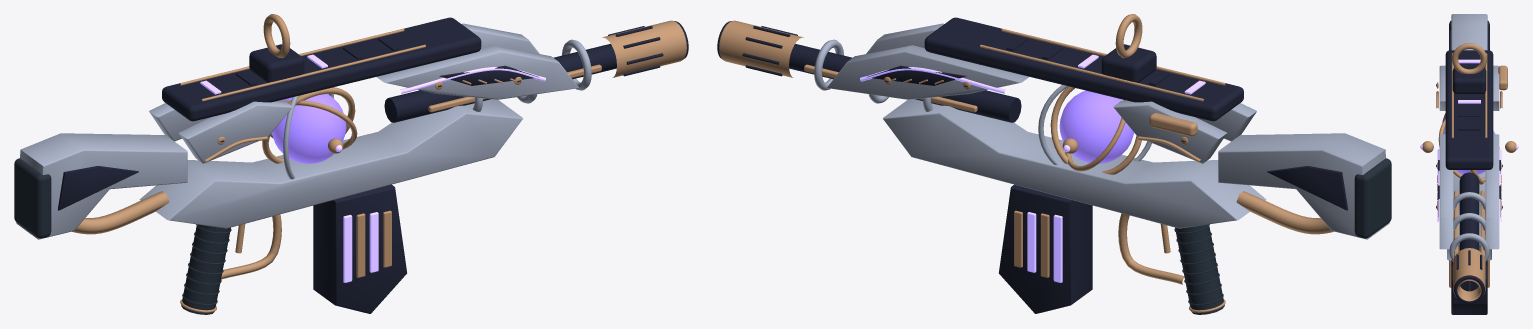
File: graviton-crucible.glb
3 renders of one model, left to right at view 1: azimuth 30°, elevation 25°; view 2: azimuth 150°, elevation 25°; view 3: azimuth 270°, elevation 25°, orthographic. The views are drawn at different scales.
Parts seen in each view (by area): view 1: 01_Dawn_AR__body_Sculpt_coat, 01_Dawn_AR__body_Sculpt_frame, 01_Dawn_AR__stock_Sculpt_coat, 01_Dawn_AR__body_Sculpt_metal, 01_Dawn_AR__magazine_Sculpt_frame, 01_Dawn_AR__body_Sculpt_core, 01_Dawn_AR__body_Sculpt_grip, 01_Dawn_AR__stock_Sculpt_grip, 01_Dawn_AR__stock_Sculpt_frame, 01_Dawn_AR__stock_Sculpt_metal, 01_Dawn_AR__optic_Sculpt_frame, 01_Dawn_AR__magazine_Sculpt_glow (+3 smaller); view 2: 01_Dawn_AR__body_Sculpt_coat, 01_Dawn_AR__body_Sculpt_frame, 01_Dawn_AR__body_Sculpt_metal, 01_Dawn_AR__stock_Sculpt_coat, 01_Dawn_AR__magazine_Sculpt_frame, 01_Dawn_AR__body_Sculpt_core, 01_Dawn_AR__body_Sculpt_grip, 01_Dawn_AR__stock_Sculpt_grip, 01_Dawn_AR__stock_Sculpt_frame, 01_Dawn_AR__stock_Sculpt_metal, 01_Dawn_AR__optic_Sculpt_frame, 01_Dawn_AR__magazine_Sculpt_glow (+4 smaller); view 3: 01_Dawn_AR__body_Sculpt_frame, 01_Dawn_AR__body_Sculpt_coat, 01_Dawn_AR__body_Sculpt_metal, 01_Dawn_AR__stock_Sculpt_coat, 01_Dawn_AR__magazine_Sculpt_frame, 01_Dawn_AR__optic_Sculpt_frame, 01_Dawn_AR__body_Sculpt_glow, 01_Dawn_AR__optic_Sculpt_metal, 01_Dawn_AR__bolt_Sculpt_metal, 01_Dawn_AR__magazine_Sculpt_metal, 01_Dawn_AR__stock_Sculpt_frame, 01_Dawn_AR__body_Sculpt_core (+1 smaller).
Boxes of the visible parts, x1=… form: 01_Dawn_AR__body_Sculpt_coat: x1=139, y1=23, x2=591, y2=228; 01_Dawn_AR__body_Sculpt_frame: x1=162, y1=17, x2=688, y2=142; 01_Dawn_AR__stock_Sculpt_coat: x1=16, y1=133, x2=187, y2=239; 01_Dawn_AR__body_Sculpt_metal: x1=180, y1=20, x2=686, y2=312; 01_Dawn_AR__magazine_Sculpt_frame: x1=313, y1=184, x2=406, y2=313; 01_Dawn_AR__body_Sculpt_core: x1=272, y1=94, x2=346, y2=163; 01_Dawn_AR__body_Sculpt_grip: x1=181, y1=224, x2=231, y2=314; 01_Dawn_AR__stock_Sculpt_grip: x1=14, y1=158, x2=51, y2=238; 01_Dawn_AR__stock_Sculpt_frame: x1=57, y1=166, x2=138, y2=210; 01_Dawn_AR__stock_Sculpt_metal: x1=72, y1=191, x2=169, y2=234; 01_Dawn_AR__optic_Sculpt_frame: x1=249, y1=44, x2=304, y2=82; 01_Dawn_AR__magazine_Sculpt_glow: x1=343, y1=212, x2=378, y2=282; 01_Dawn_AR__body_Sculpt_coat: x1=814, y1=23, x2=1266, y2=228; 01_Dawn_AR__body_Sculpt_frame: x1=717, y1=17, x2=1243, y2=142; 01_Dawn_AR__body_Sculpt_metal: x1=719, y1=20, x2=1225, y2=312; 01_Dawn_AR__stock_Sculpt_coat: x1=1218, y1=133, x2=1389, y2=239; 01_Dawn_AR__magazine_Sculpt_frame: x1=999, y1=184, x2=1092, y2=313; 01_Dawn_AR__body_Sculpt_core: x1=1059, y1=90, x2=1133, y2=163; 01_Dawn_AR__body_Sculpt_grip: x1=1174, y1=224, x2=1224, y2=314; 01_Dawn_AR__stock_Sculpt_grip: x1=1354, y1=158, x2=1391, y2=238; 01_Dawn_AR__stock_Sculpt_frame: x1=1267, y1=166, x2=1348, y2=210; 01_Dawn_AR__stock_Sculpt_metal: x1=1236, y1=191, x2=1333, y2=234; 01_Dawn_AR__optic_Sculpt_frame: x1=1101, y1=44, x2=1156, y2=82; 01_Dawn_AR__magazine_Sculpt_glow: x1=1027, y1=212, x2=1062, y2=282; 01_Dawn_AR__body_Sculpt_frame: x1=1436, y1=50, x2=1502, y2=303; 01_Dawn_AR__body_Sculpt_coat: x1=1439, y1=65, x2=1499, y2=261; 01_Dawn_AR__body_Sculpt_metal: x1=1422, y1=53, x2=1516, y2=301; 01_Dawn_AR__stock_Sculpt_coat: x1=1451, y1=14, x2=1487, y2=50; 01_Dawn_AR__magazine_Sculpt_frame: x1=1451, y1=260, x2=1487, y2=314; 01_Dawn_AR__optic_Sculpt_frame: x1=1452, y1=67, x2=1486, y2=93; 01_Dawn_AR__body_Sculpt_glow: x1=1420, y1=59, x2=1518, y2=221; 01_Dawn_AR__optic_Sculpt_metal: x1=1452, y1=43, x2=1486, y2=73; 01_Dawn_AR__bolt_Sculpt_metal: x1=1498, y1=65, x2=1507, y2=90; 01_Dawn_AR__magazine_Sculpt_metal: x1=1449, y1=260, x2=1489, y2=287; 01_Dawn_AR__stock_Sculpt_frame: x1=1449, y1=30, x2=1489, y2=50; 01_Dawn_AR__body_Sculpt_core: x1=1443, y1=131, x2=1495, y2=174.
Size of the model in its own units: 3.31 by 1.5 by 0.556.
